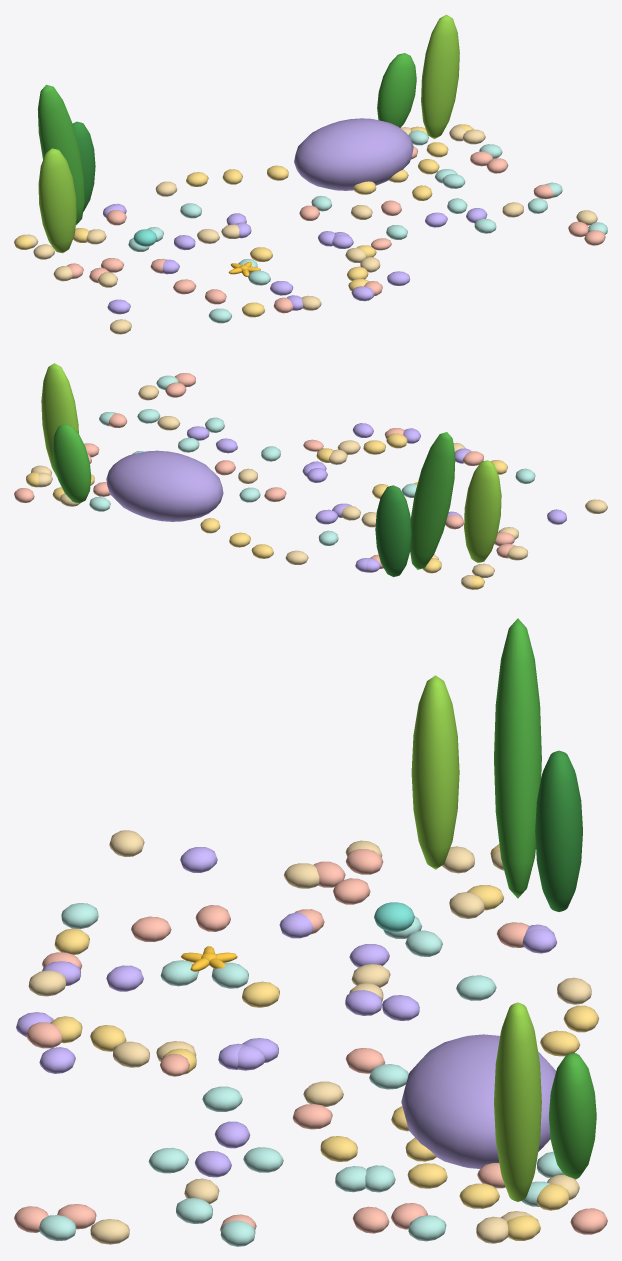
File: TankBed.fbx
3 views of the same model, one above another, from view 1: azimuth 30°, elevation 25°; view 2: azimuth 150°, elevation 25°; view 3: azimuth 270°, elevation 25° (orthographic). The views are drawn at different scales.
Visible parts, largest first — view 1: TankBed mesh; view 2: TankBed mesh; view 3: TankBed mesh.
Boxes of the visible parts, bbox=[...] form: TankBed mesh: bbox=[14, 14, 607, 334]; TankBed mesh: bbox=[14, 363, 607, 589]; TankBed mesh: bbox=[14, 618, 607, 1246].
Bounding box in the file's own units: 1.4 × 0.4554 × 0.8659.
